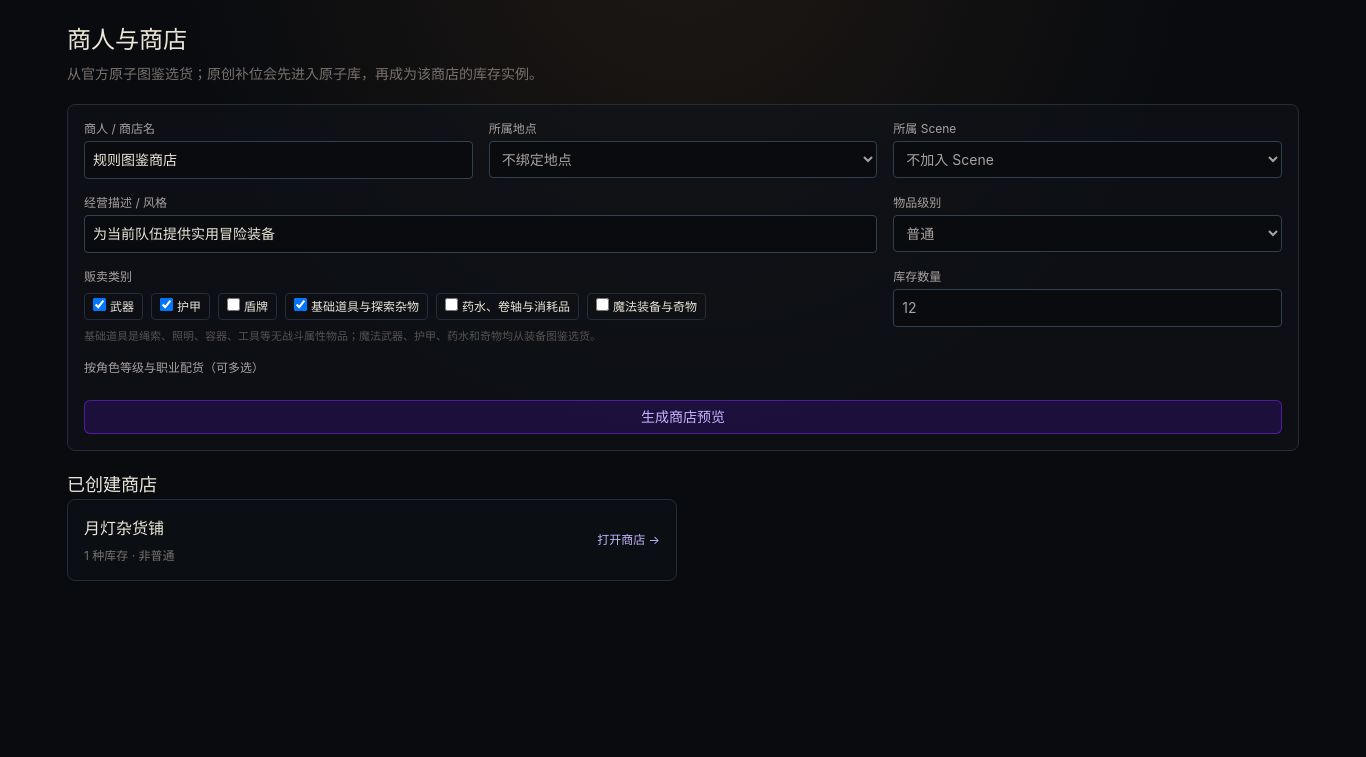
MerchantsPage saved shops › opens a saved merchant and shows its context and inventory
Click the button "月灯杂货铺 1 种库存 · 非普通 打开商店 →": (124, 528) x1=68 y1=500 x2=676 y2=580
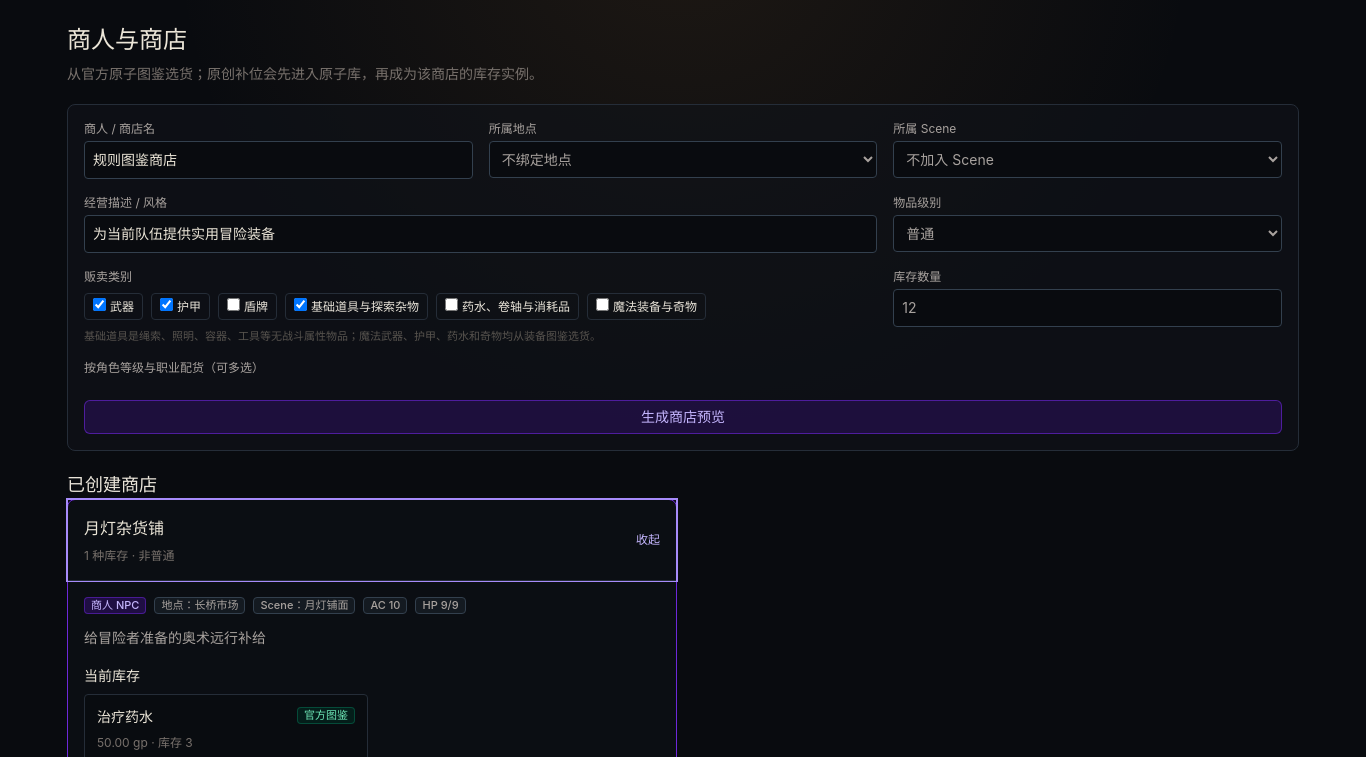
Now the button "月灯杂货铺 1 种库存 · 非普通 收起" is expanded, box x1=68 y1=500 x2=676 y2=580
Now the text "给冒险者准备的奥术远行补给" is shown, box x1=84 y1=629 x2=266 y2=646
Now the text "地点：长桥市场" is shown, box x1=154 y1=597 x2=245 y2=614
